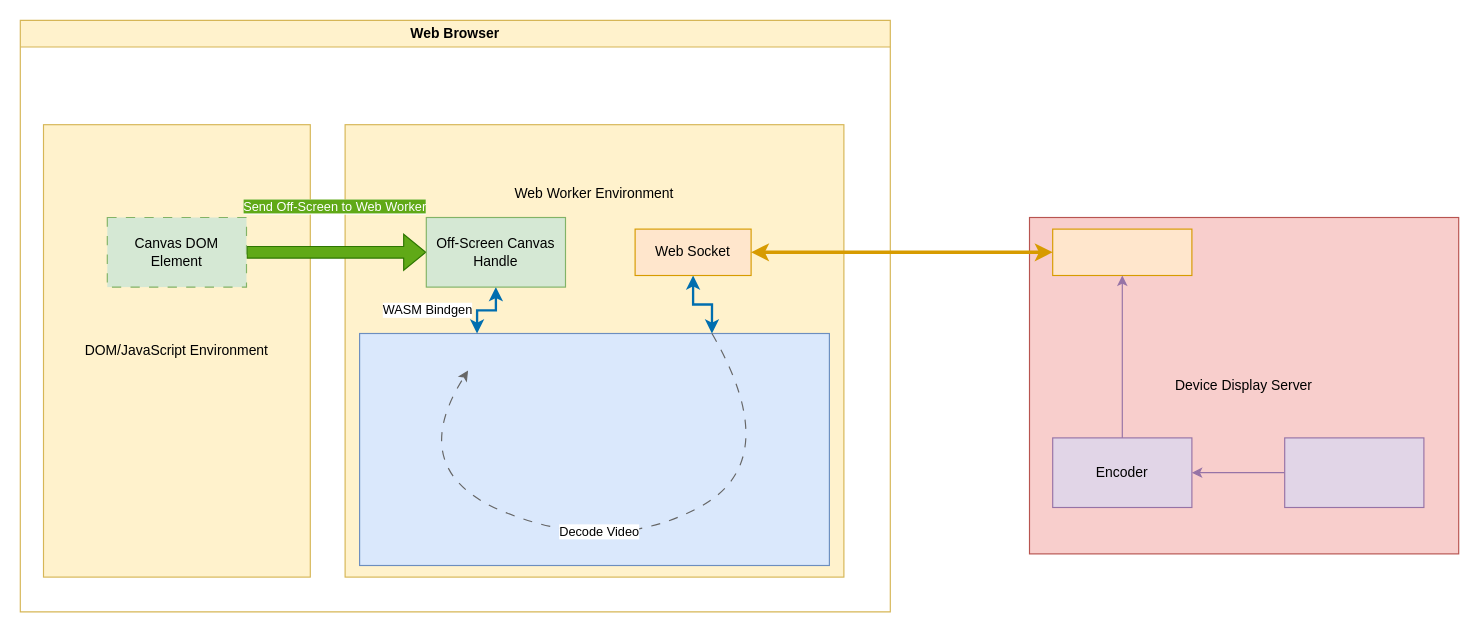
Image size: 1479x632. Some labels were removed from this diagram. The centre of each missing label's shape, as x and y in pixels:
Screen Data Provider (EVDI): pixel 1354 472
WASM: pixel 593 449
Web Socket Server: pixel 1122 252
